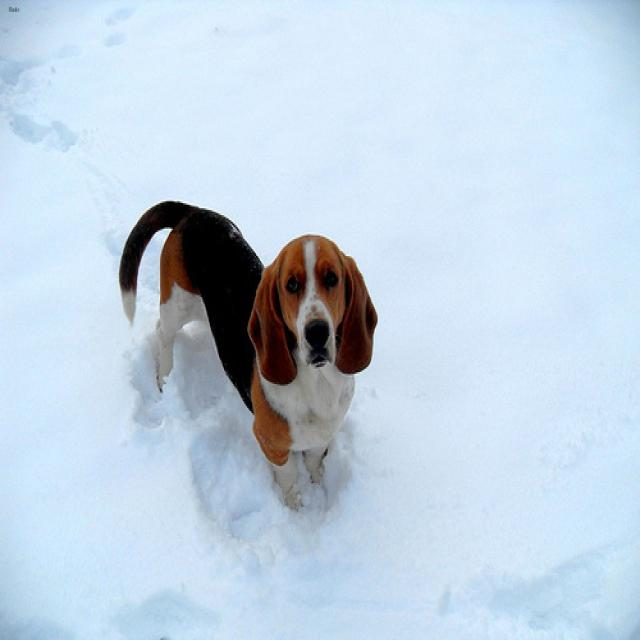dog-basset_hound: (113, 193, 383, 515)
